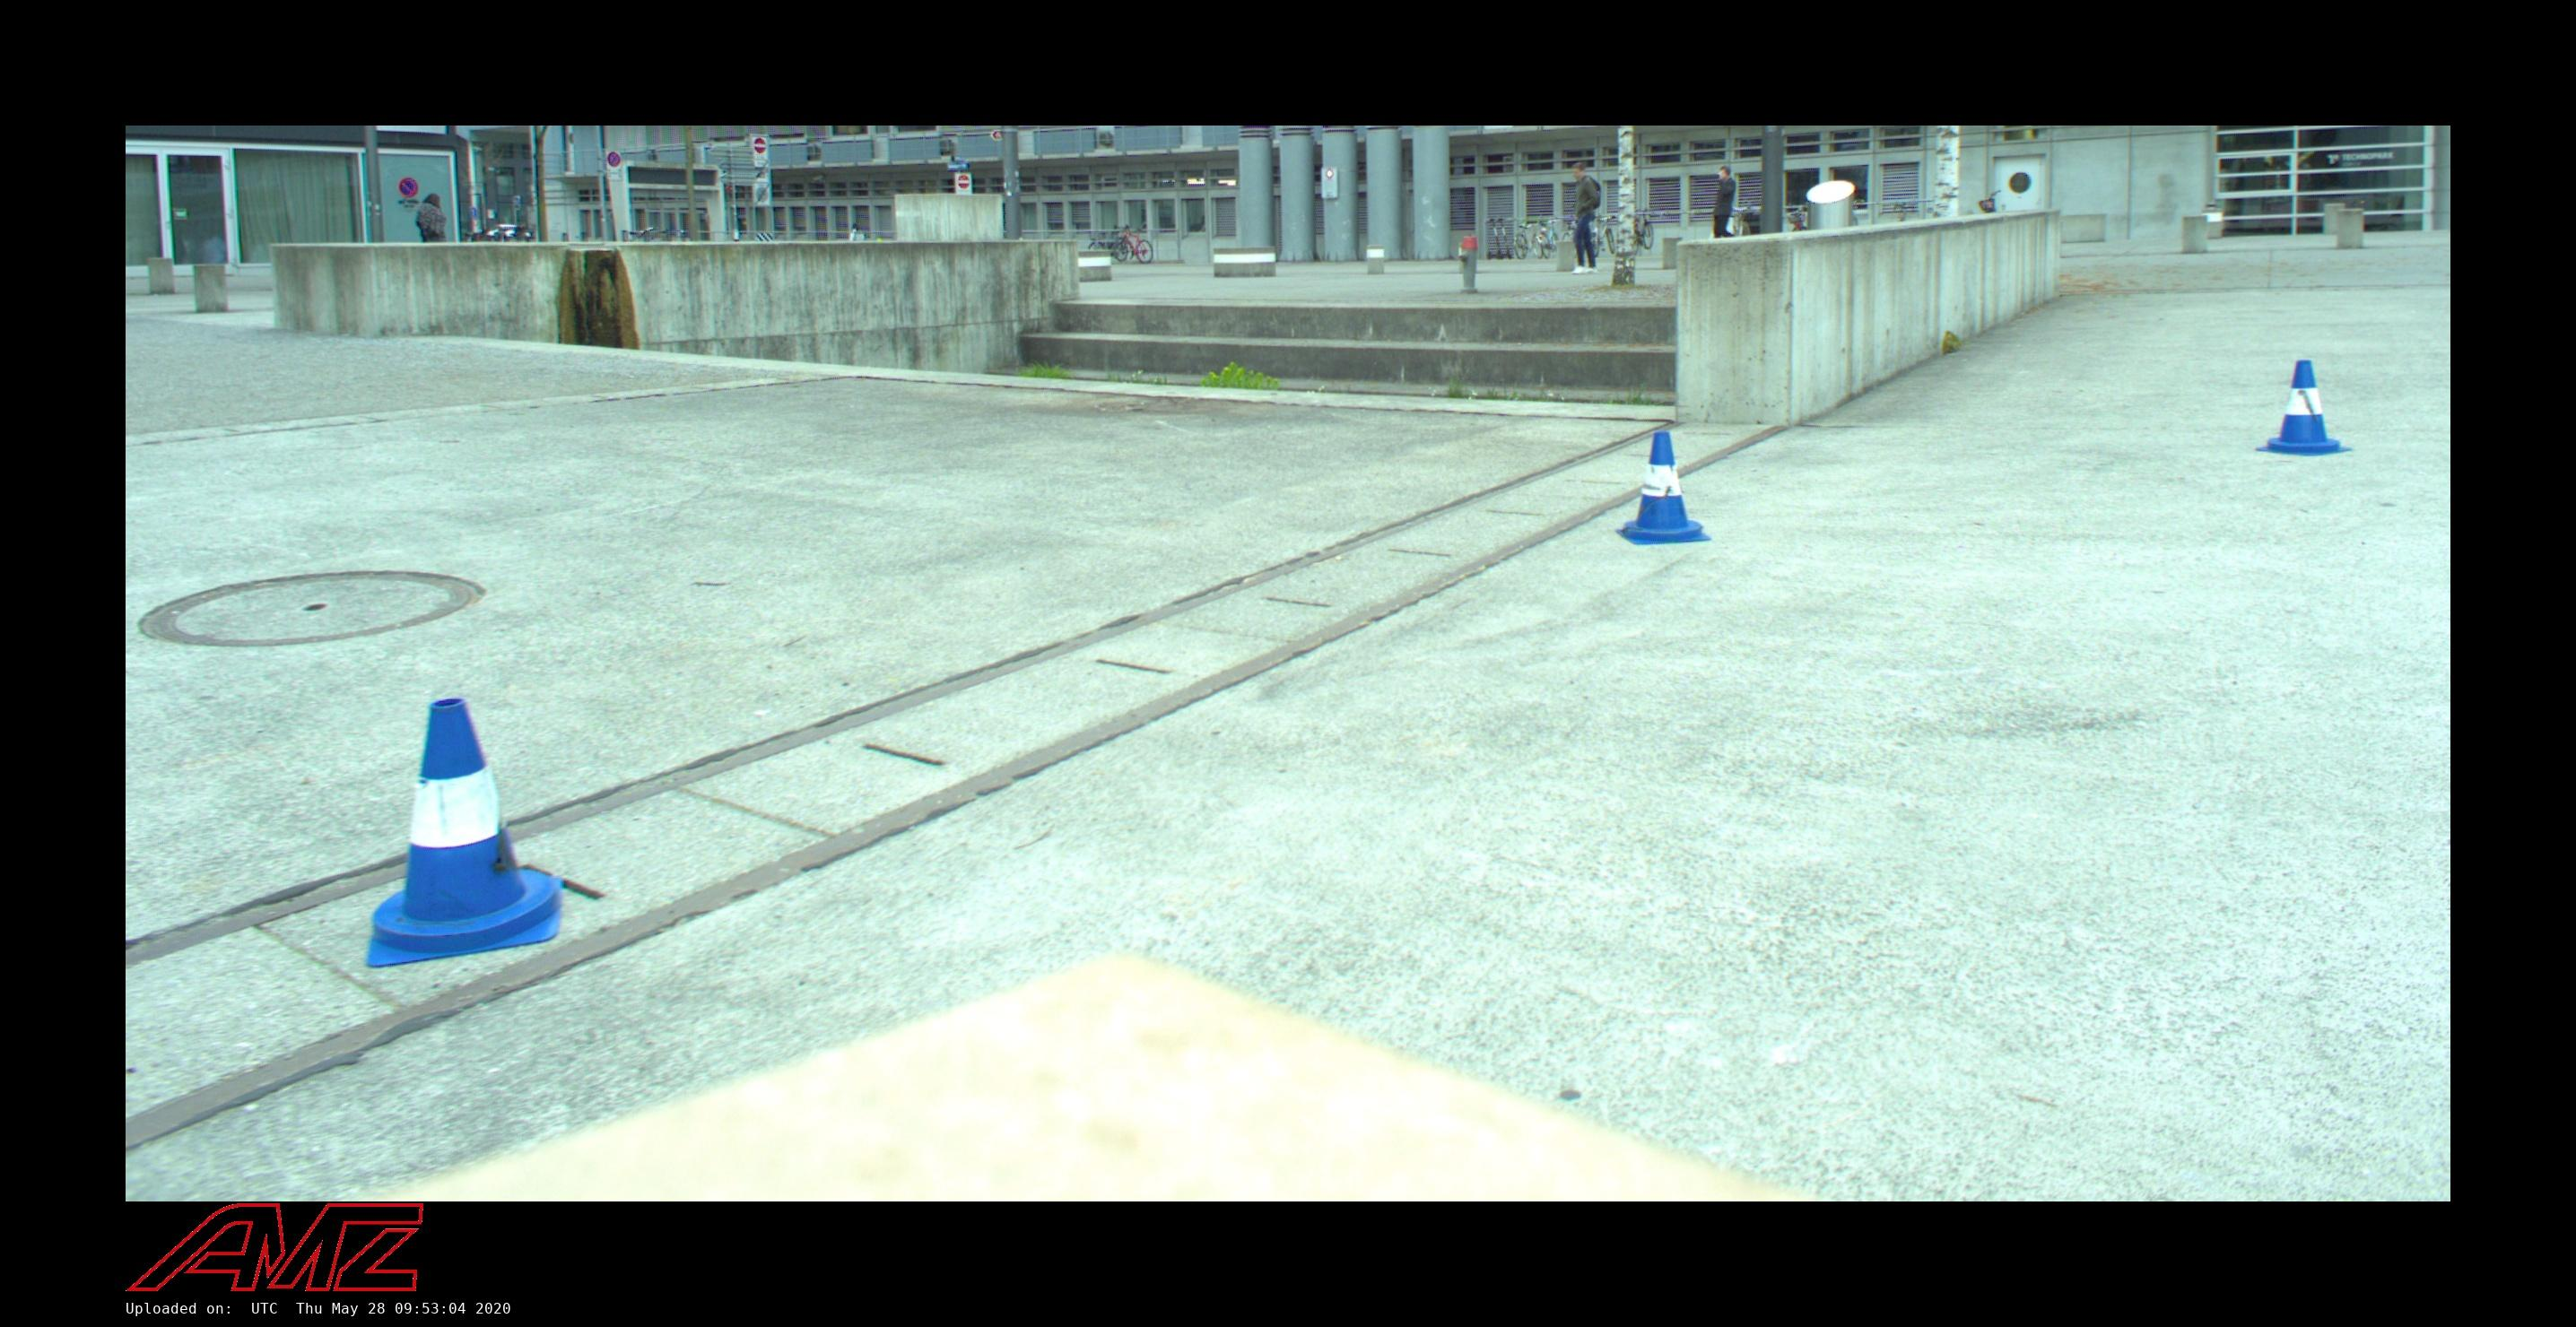blue_cone: (349, 692, 575, 968), (1620, 430, 1708, 543), (2256, 357, 2349, 455)
